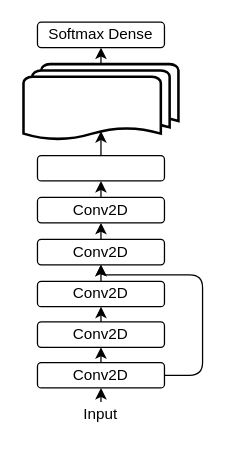
Some shapes in this 235 by 450 pixel diagram are drawn without their labels. Each missing label, with the centre of its shape:
"Flatten" goes at pixel 100 167.
"semiclassification (Sigmoid Dense)" goes at pixel 100 101.
